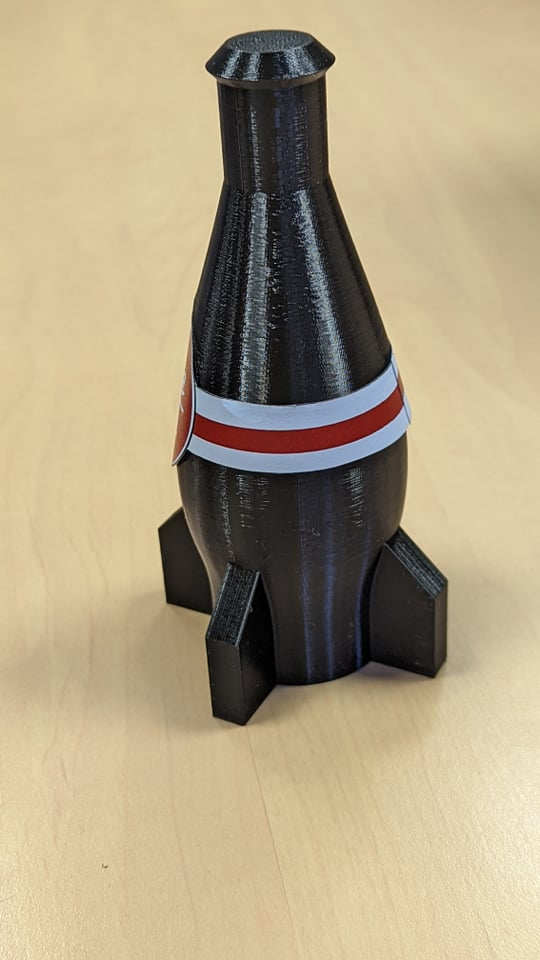bottle: (138, 14, 478, 742)
